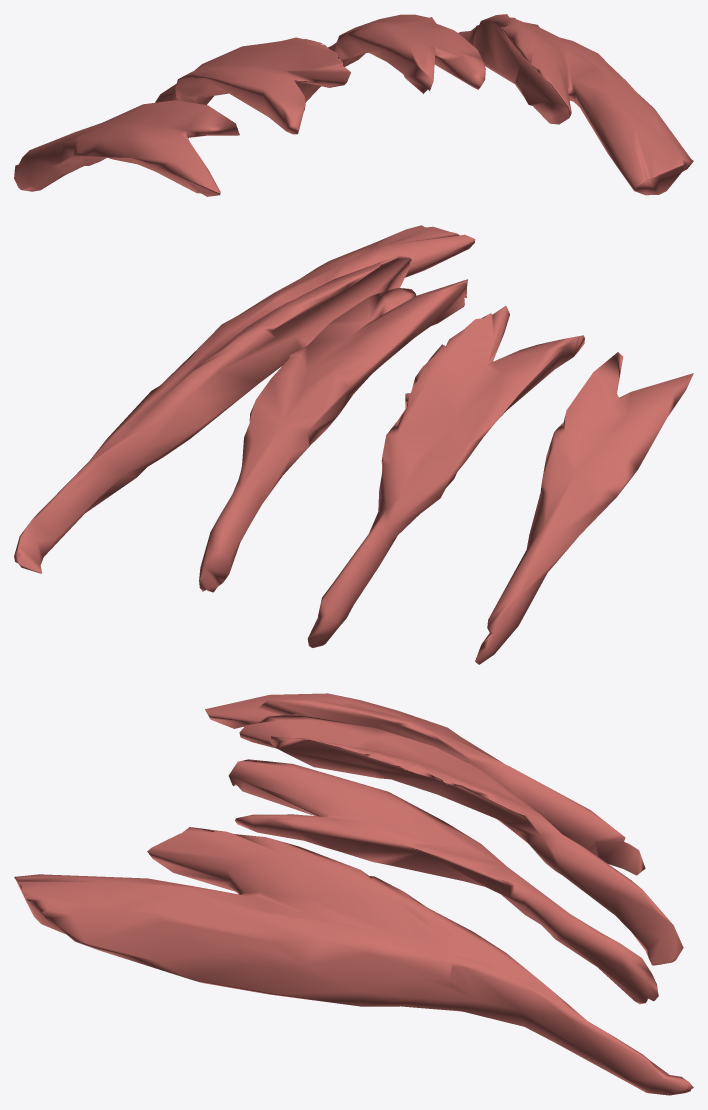
The picture shows the model from 3 angles, top to bottom: view 1: azimuth 30°, elevation 25°; view 2: azimuth 150°, elevation 25°; view 3: azimuth 270°, elevation 25°; orthographic projection. The views are drawn at different scales.
Parts seen in each view (by area): view 1: 左侧骨间背侧肌; view 2: 左侧骨间背侧肌; view 3: 左侧骨间背侧肌.
Boxes of the visible parts, x1,y1,x2,y2 form: 左侧骨间背侧肌: (14, 14, 693, 196); 左侧骨间背侧肌: (14, 225, 693, 664); 左侧骨间背侧肌: (14, 693, 693, 1095).
Size of the model in its own units: 0.0944 by 0.0391 by 0.1048.
